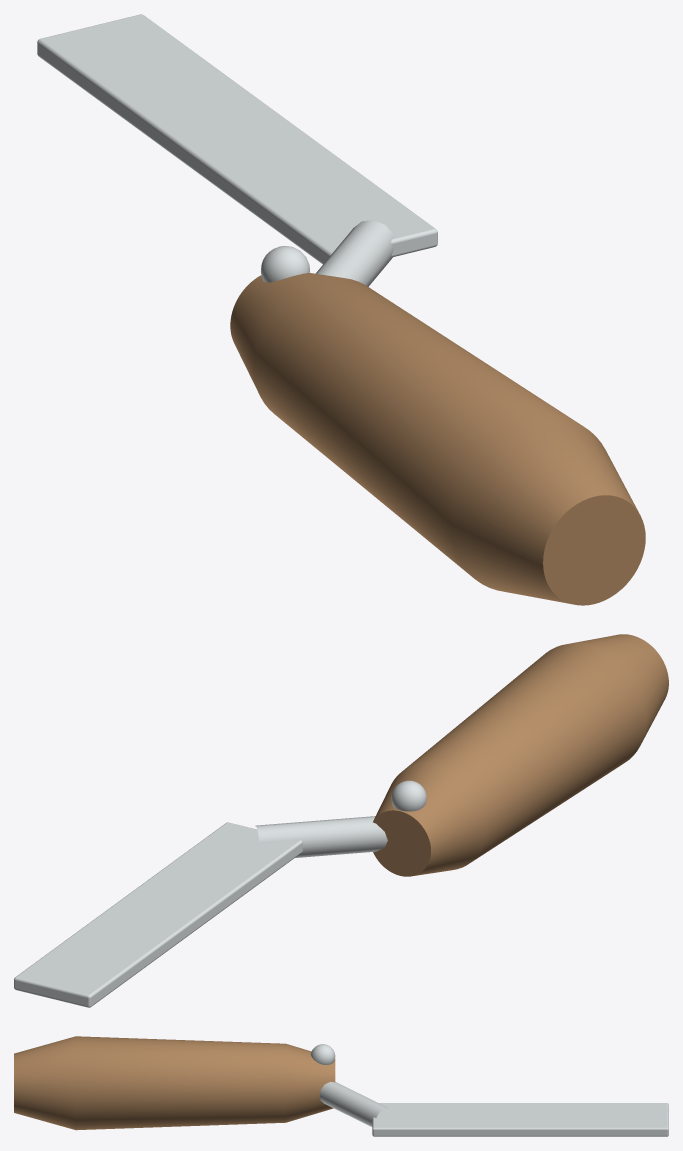
The model's file is barbershop-and-hair-salon-razor-101c1f38__29665.glb.
The picture shows the model from 3 angles, top to bottom: view 1: azimuth 30°, elevation 25°; view 2: azimuth 150°, elevation 25°; view 3: azimuth 270°, elevation 25°; orthographic projection. The views are drawn at different scales.
Parts seen in each view (by area): view 1: razor; view 2: razor; view 3: razor.
Boxes of the visible parts, x1,y1,x2,y2 form: razor: (37,14,645,605); razor: (14,634,668,1007); razor: (14,1036,668,1136).
Size of the model in its own units: 0.0665 by 0.038 by 0.265.
